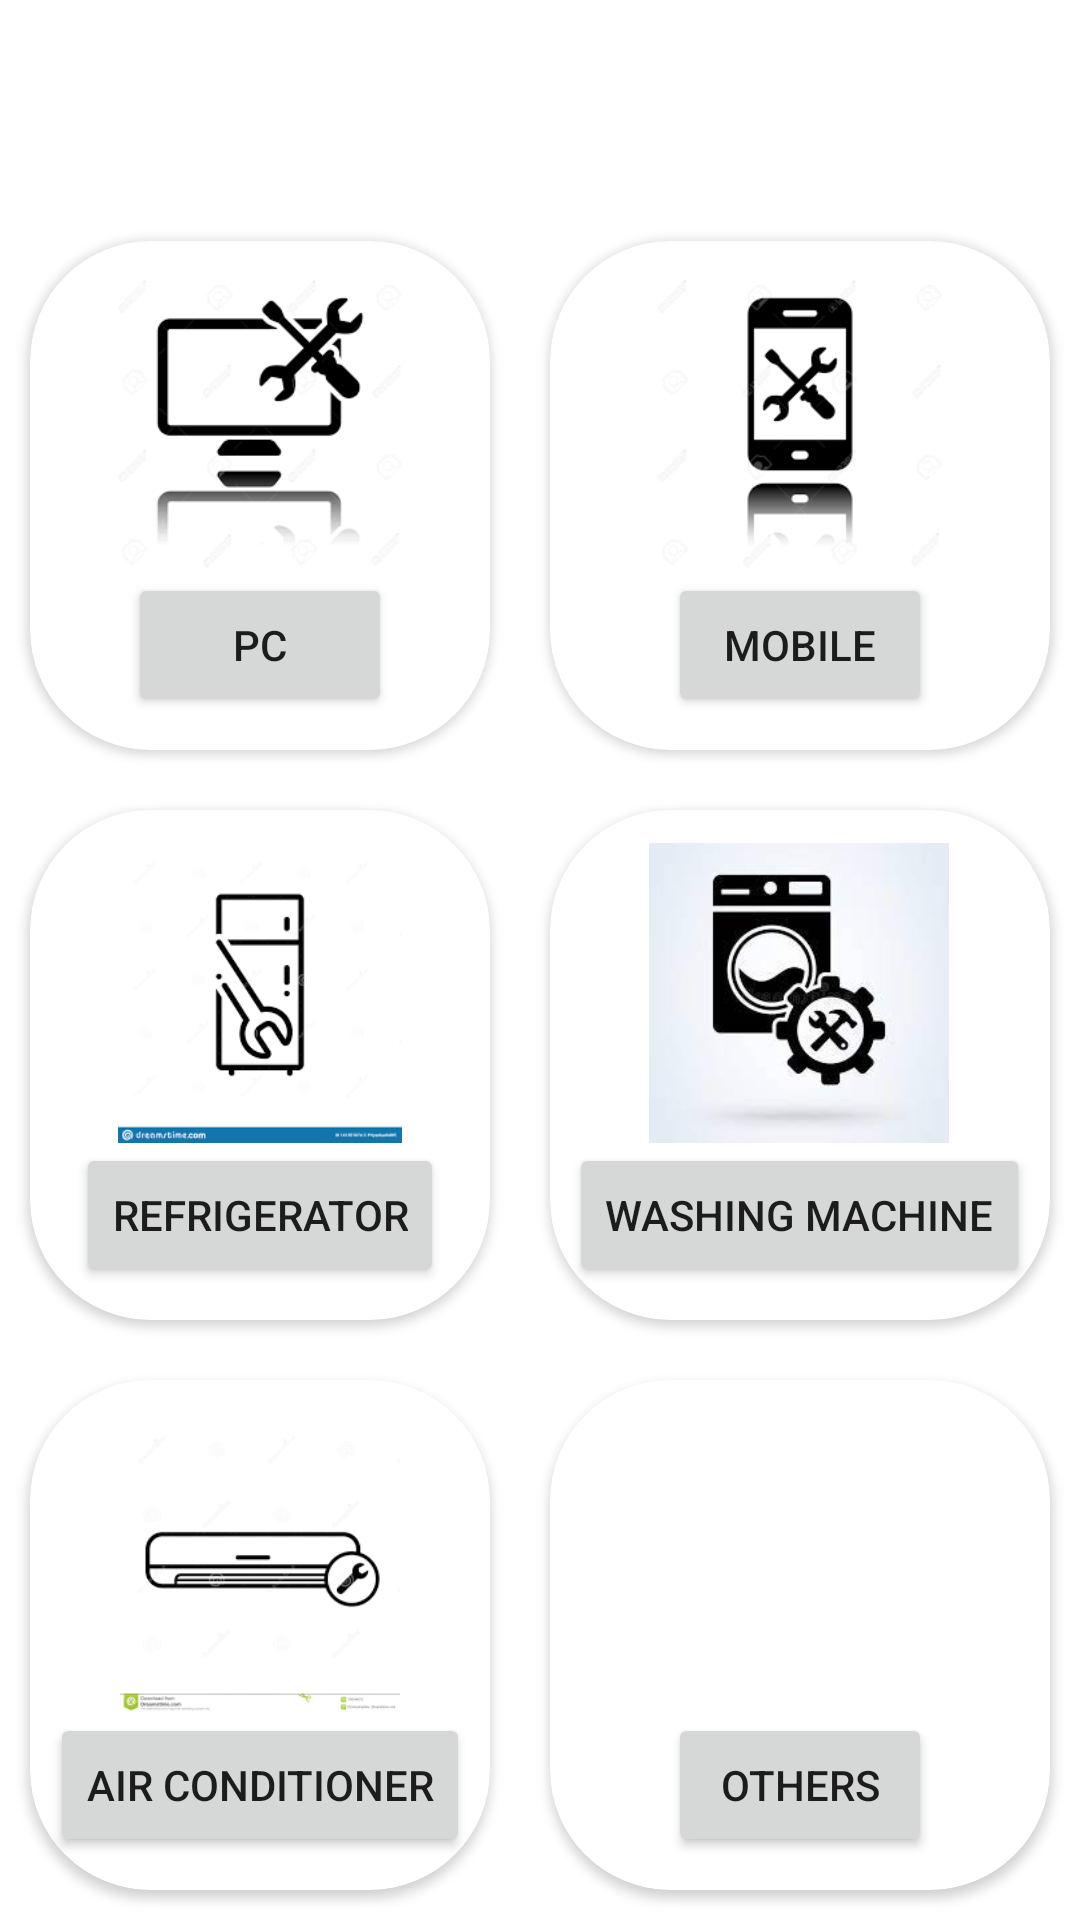

Icons on this 1080x1920 Android screen, each with its box as bbox(x1, y1, x2, y2):
mob rep: bbox(747, 297, 853, 537)
pc rep: bbox(156, 297, 364, 535)
